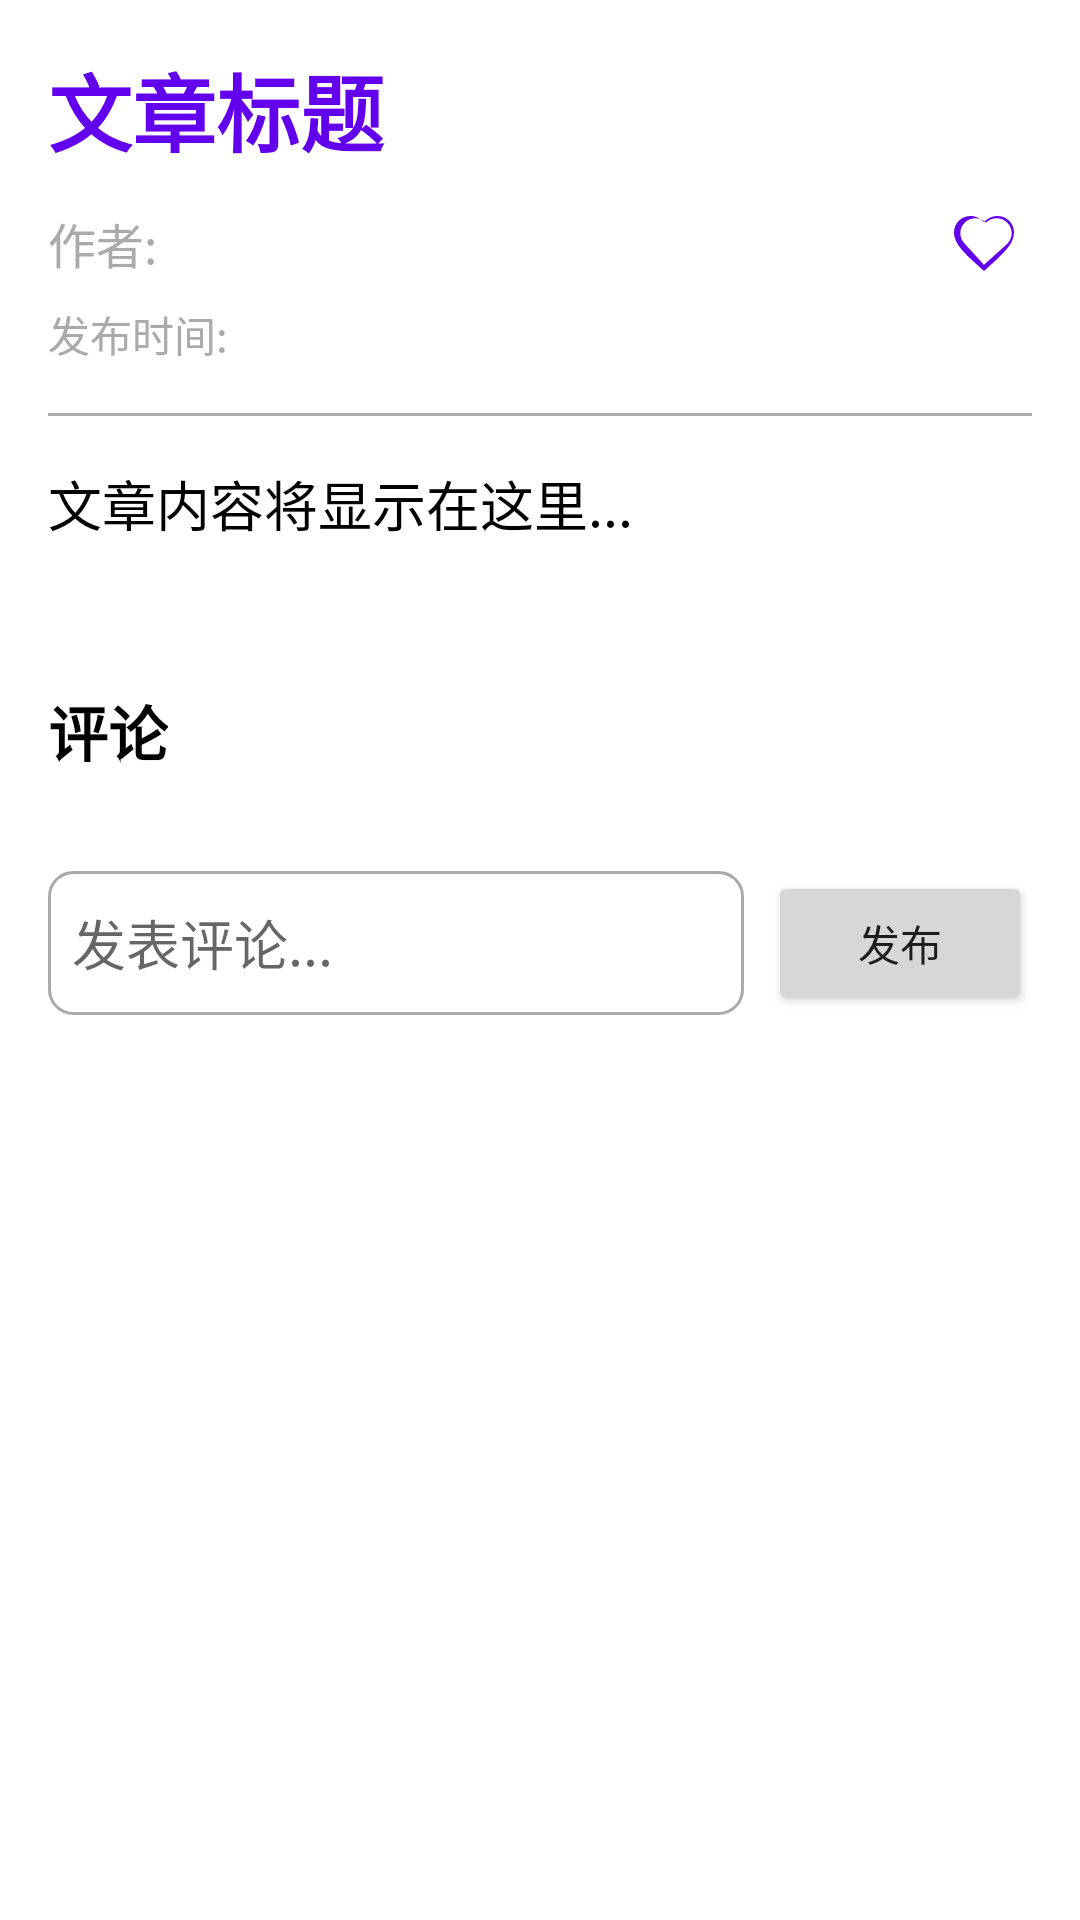

Where to tap for icons on this 1080px x 1920px app screen, as [x,y]:
收藏文章: [984,243]
